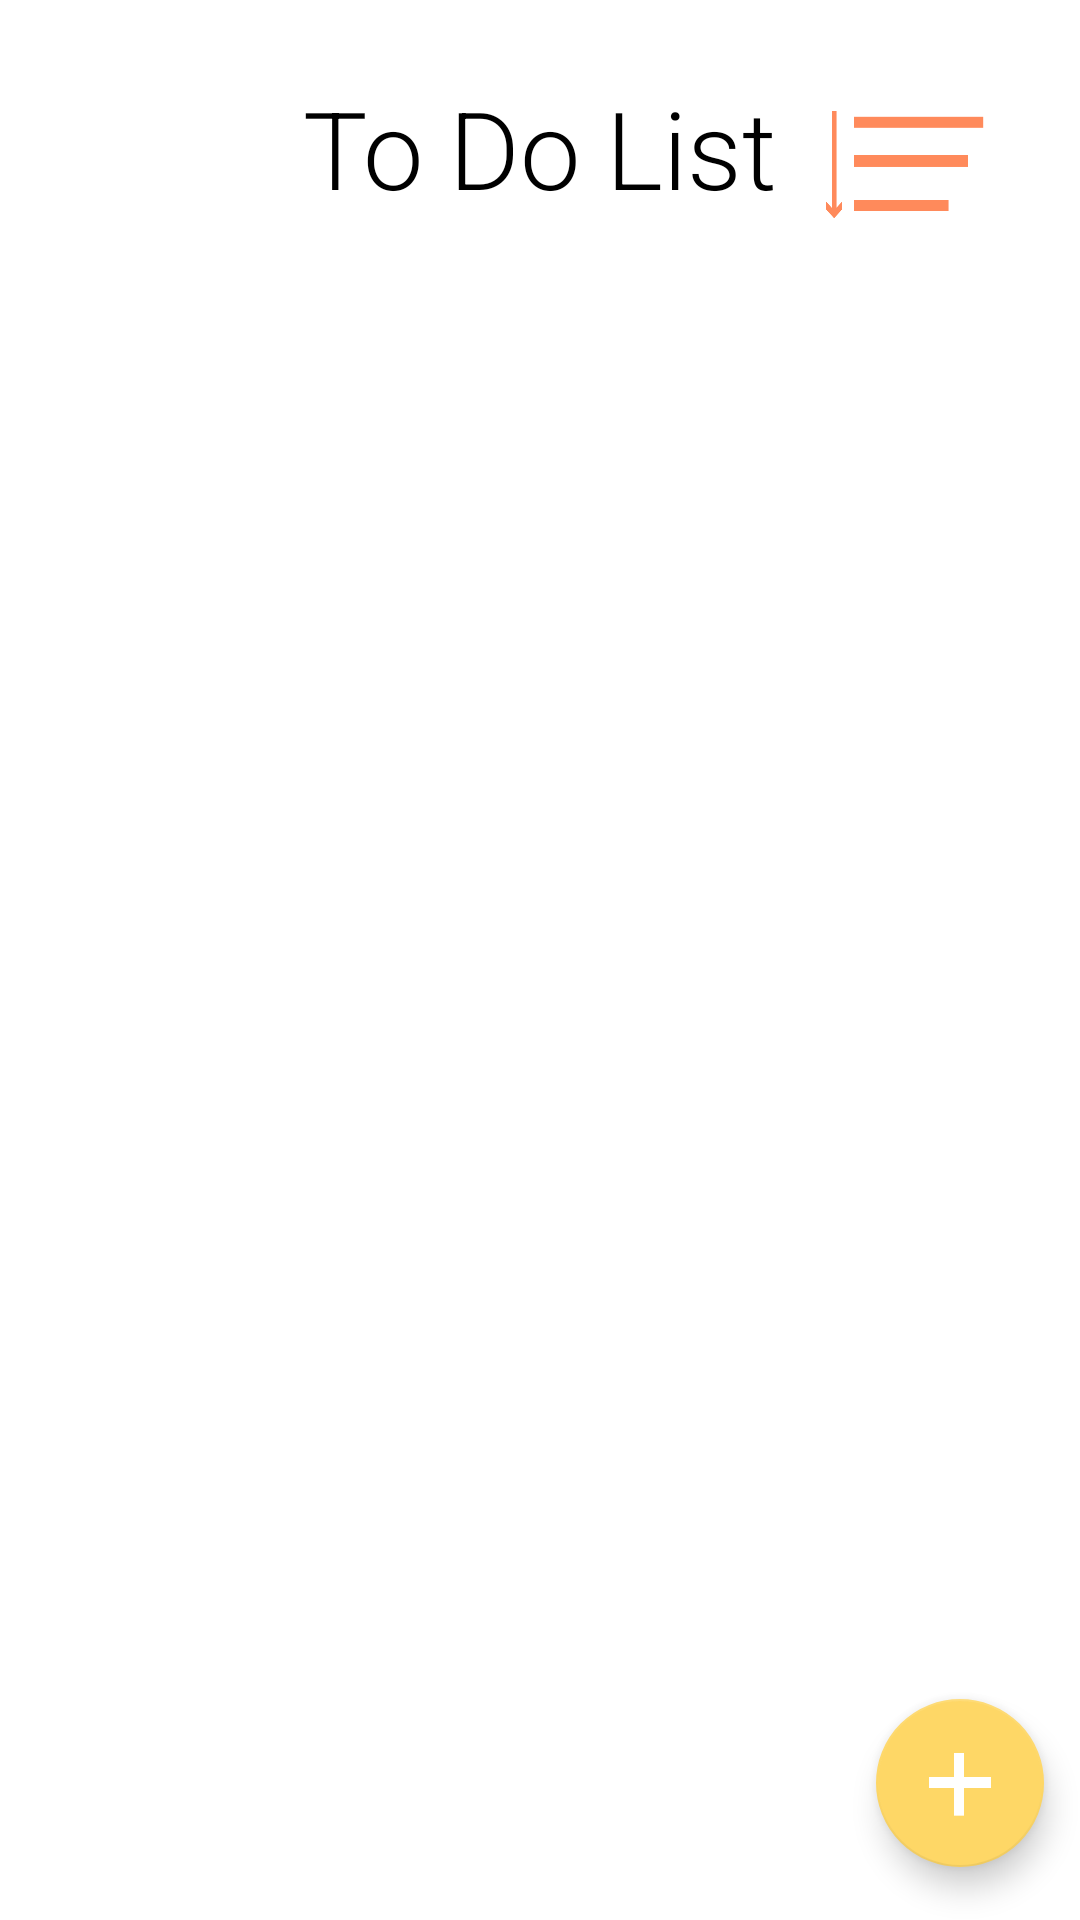

Icons on this 1080x1920 Android screen, each with its box as (left=x1, top=y1, right=x2, bottom=y2):
plus: (left=876, top=1699, right=1044, bottom=1867)
